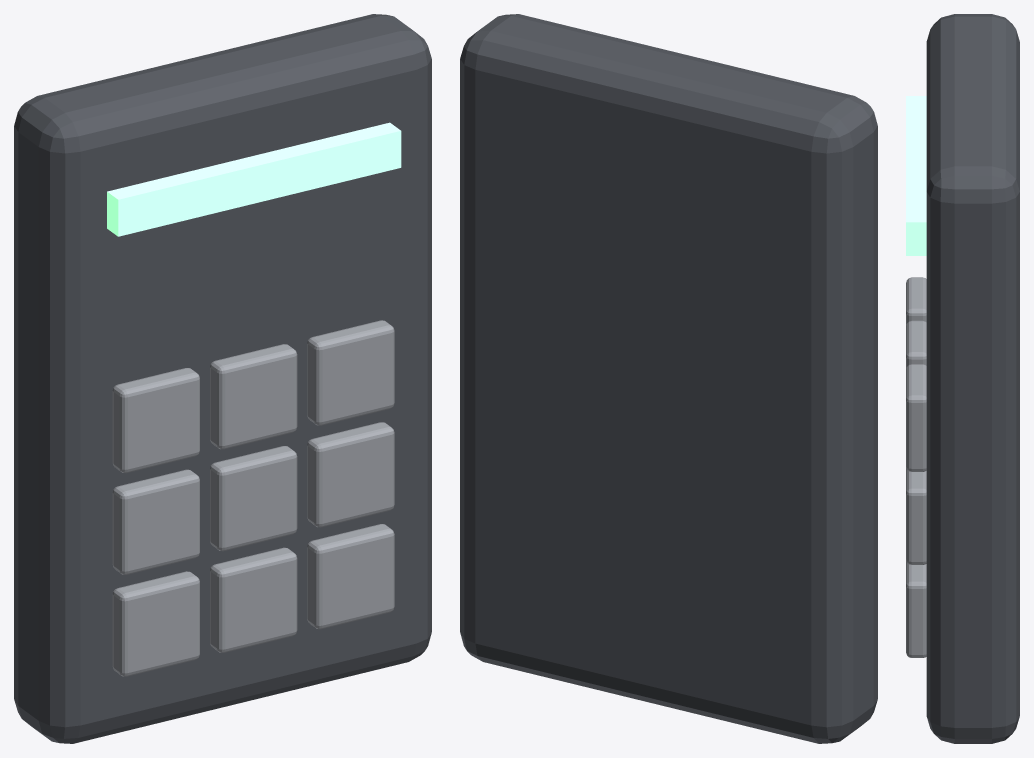
Rendered from control_panel_door_keypad.glb.
The picture shows the model from 3 angles, left to right: view 1: azimuth 30°, elevation 25°; view 2: azimuth 150°, elevation 25°; view 3: azimuth 270°, elevation 25°; orthographic projection. The views are drawn at different scales.
Parts seen in each view (by area): view 1: GD_control_panel_door_keypad__m0, GD_control_panel_door_keypad__m1, GD_control_panel_door_keypad__m2; view 2: GD_control_panel_door_keypad__m0; view 3: GD_control_panel_door_keypad__m0, GD_control_panel_door_keypad__m1, GD_control_panel_door_keypad__m2.
Part boxes in pixels (x1,y1,x2,y2): GD_control_panel_door_keypad__m0: (14,14,431,743); GD_control_panel_door_keypad__m1: (112,320,394,676); GD_control_panel_door_keypad__m2: (107,122,401,236); GD_control_panel_door_keypad__m0: (460,14,877,743); GD_control_panel_door_keypad__m0: (926,14,1019,743); GD_control_panel_door_keypad__m1: (906,277,926,657); GD_control_panel_door_keypad__m2: (906,96,926,255).
Size of the model in its own units: 0.22 by 0.34 by 0.061.
